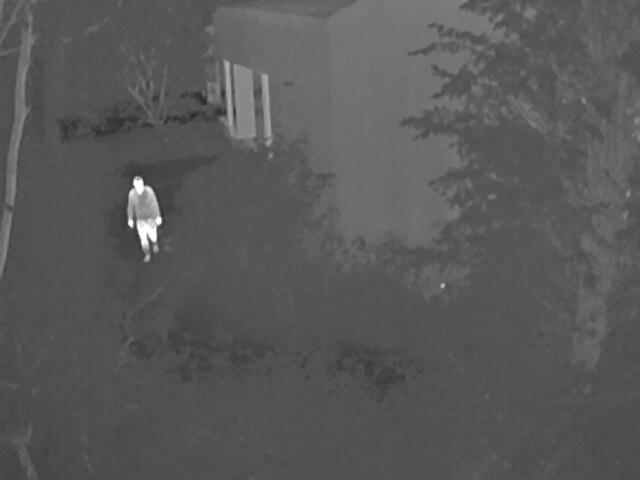person: (126, 174, 161, 265)
